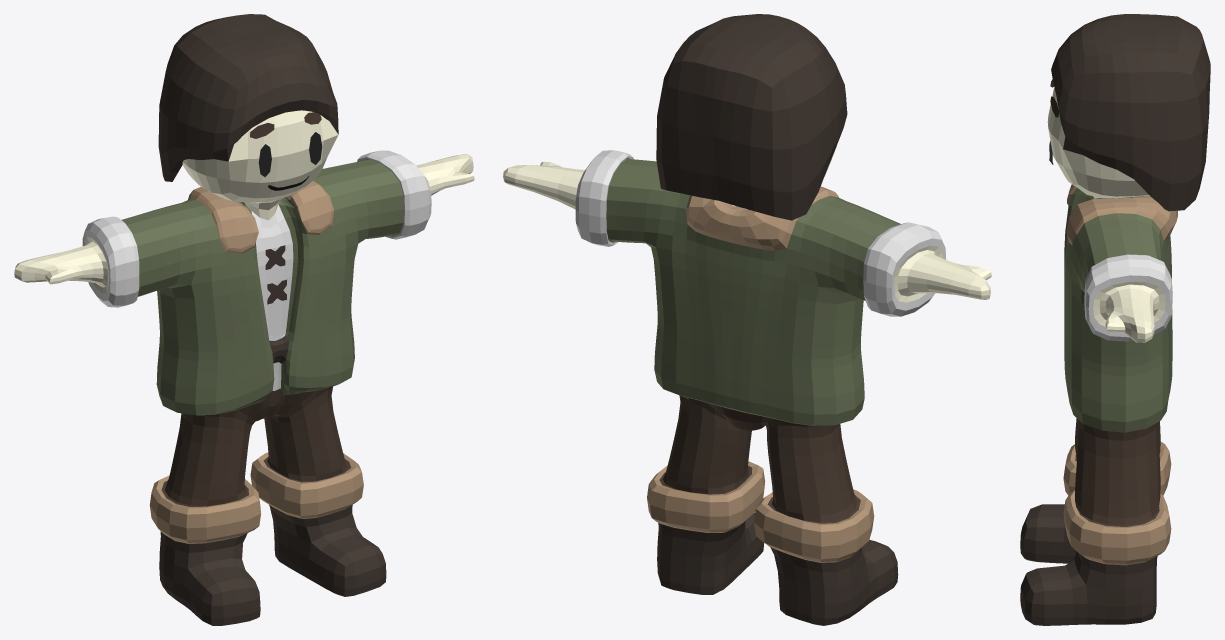
File: Forest Drift Charachter.fbx
3 views of the same model, side by side, from view 1: azimuth 30°, elevation 25°; view 2: azimuth 150°, elevation 25°; view 3: azimuth 270°, elevation 25° (orthographic). The views are drawn at different scales.
Visible parts, largest first — view 1: Cube.002; view 2: Cube.002; view 3: Cube.002.
Part boxes in pixels (<box>): Cube.002: <box>14,14,474,625</box>; Cube.002: <box>503,14,991,625</box>; Cube.002: <box>1020,14,1210,625</box>.
Size of the model in its own units: 16.18 by 18.11 by 5.65.
